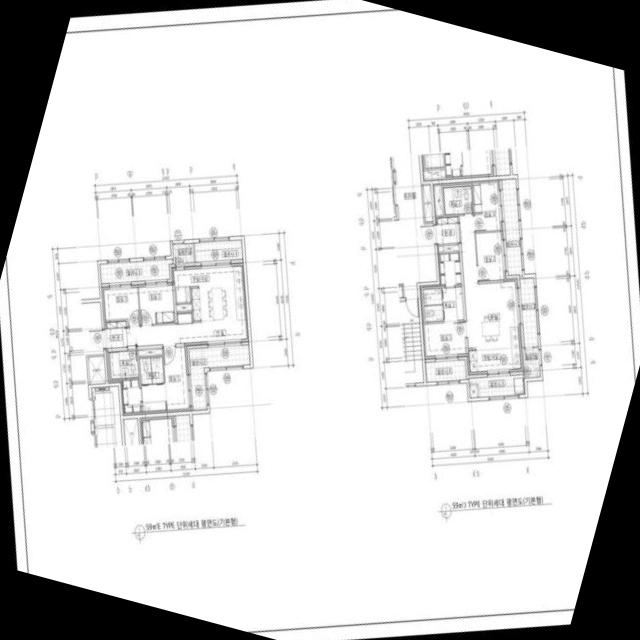background: (0, 0, 640, 640)
space_balconi: (188, 344, 250, 409), (501, 178, 521, 274), (99, 258, 172, 283), (519, 277, 537, 346), (468, 374, 524, 396), (193, 239, 242, 261), (424, 359, 465, 381)
space_bedroom: (162, 346, 190, 411), (422, 321, 466, 358), (471, 179, 502, 231), (101, 284, 139, 324), (138, 281, 174, 323), (475, 231, 505, 280)
space_dressroom: (437, 252, 461, 285), (120, 379, 141, 414)
space_elevator: (91, 385, 120, 427), (93, 425, 122, 447)
space_elevator_hall: (393, 154, 436, 296), (80, 301, 103, 355)
space_front: (103, 319, 127, 348), (435, 215, 459, 243)
space_kitchen: (171, 262, 246, 321), (466, 323, 523, 374)
space_living_room: (459, 214, 517, 327), (126, 311, 248, 345)
space_other: (87, 355, 105, 383), (422, 183, 432, 221), (432, 183, 443, 215), (437, 243, 458, 252), (138, 347, 161, 355), (176, 303, 191, 310), (469, 384, 477, 397), (398, 285, 402, 297)
space_outdoor_room: (522, 347, 540, 377), (172, 242, 194, 263)
space_staircase: (399, 299, 423, 383)
space_toilet: (139, 356, 165, 413), (422, 286, 463, 321), (442, 185, 472, 214), (109, 349, 138, 378)
